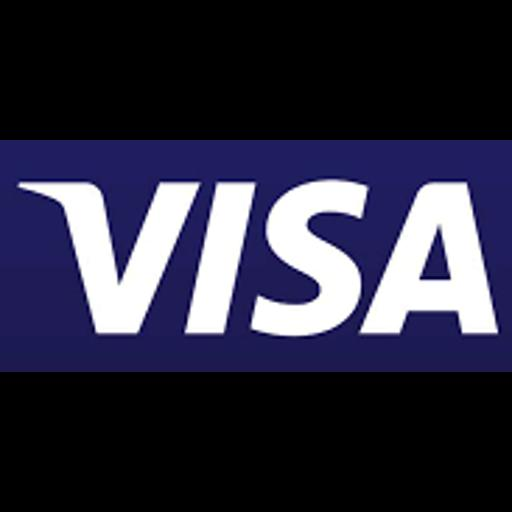Visa International Service Association: (0, 140, 512, 372)
